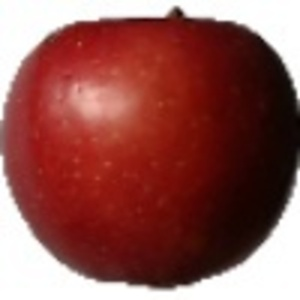maçã braeburn: (2, 9, 297, 289)
